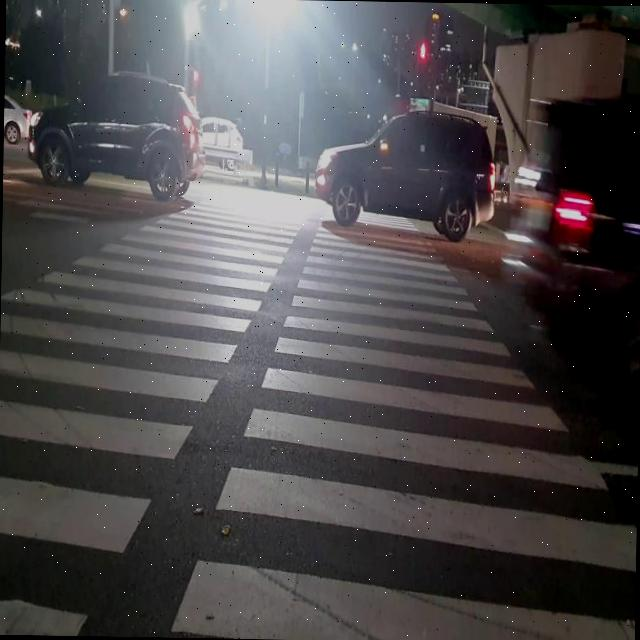crosswalk: (0, 184, 636, 640)
